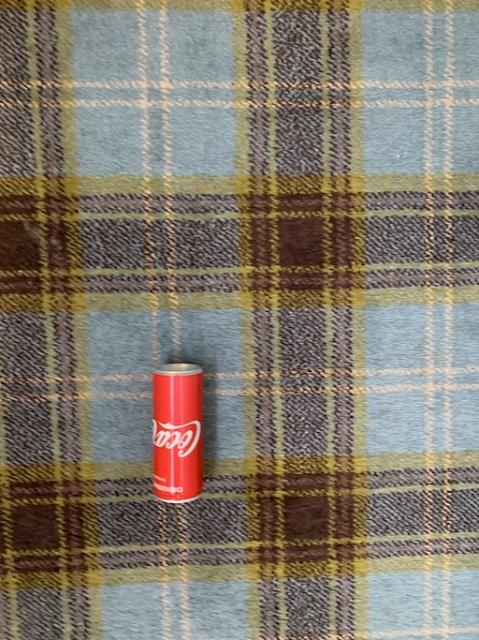metal: (152, 363, 201, 501)
